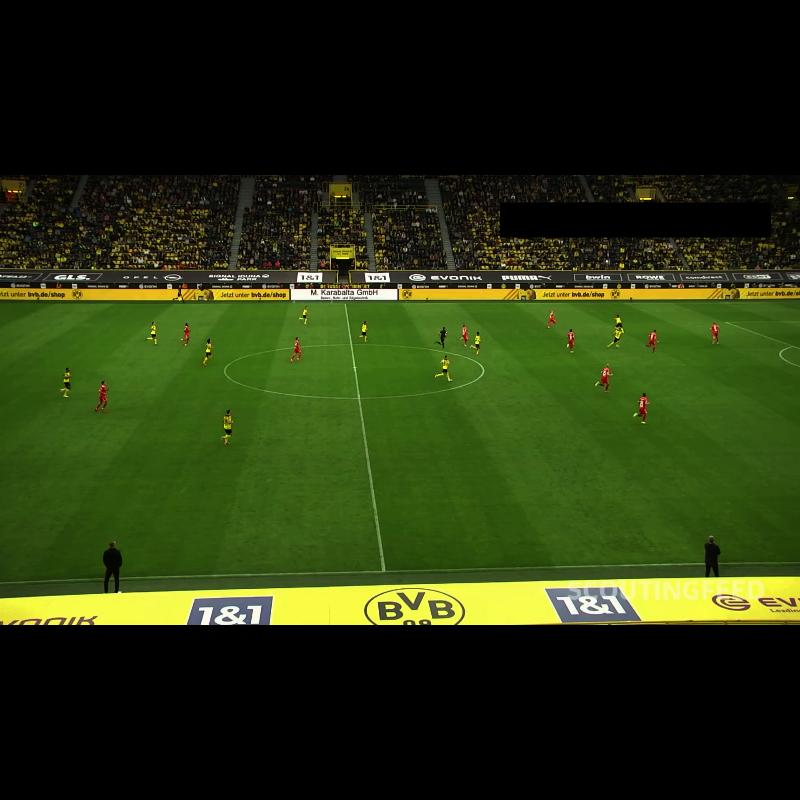cross_recipient_zone: (726, 322, 800, 348)
crossing_player_zone: (602, 301, 800, 323), (0, 304, 80, 327)
